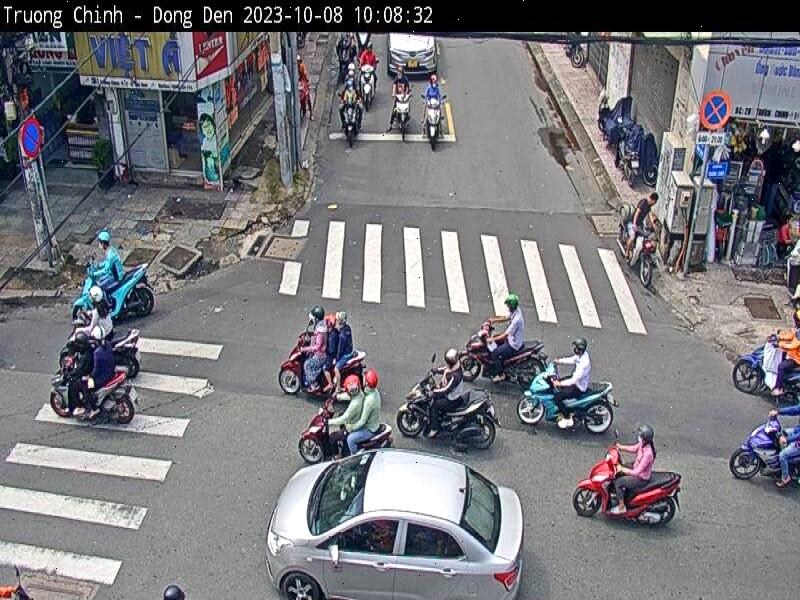car: (260, 448, 530, 600)
motorcycle: (246, 323, 384, 399), (570, 468, 682, 529), (49, 352, 139, 427), (517, 377, 619, 435), (406, 394, 502, 454), (298, 416, 394, 465), (729, 431, 799, 489), (107, 267, 158, 320)
